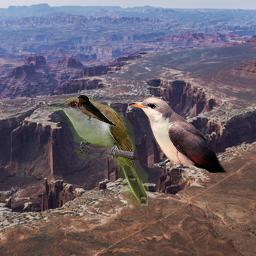Cuckoo: (46, 97, 148, 206), (128, 97, 227, 174)
Swallow: (76, 94, 118, 127)
